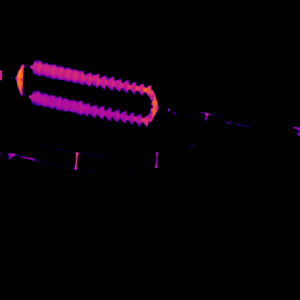insulator: (27, 58, 154, 125)
